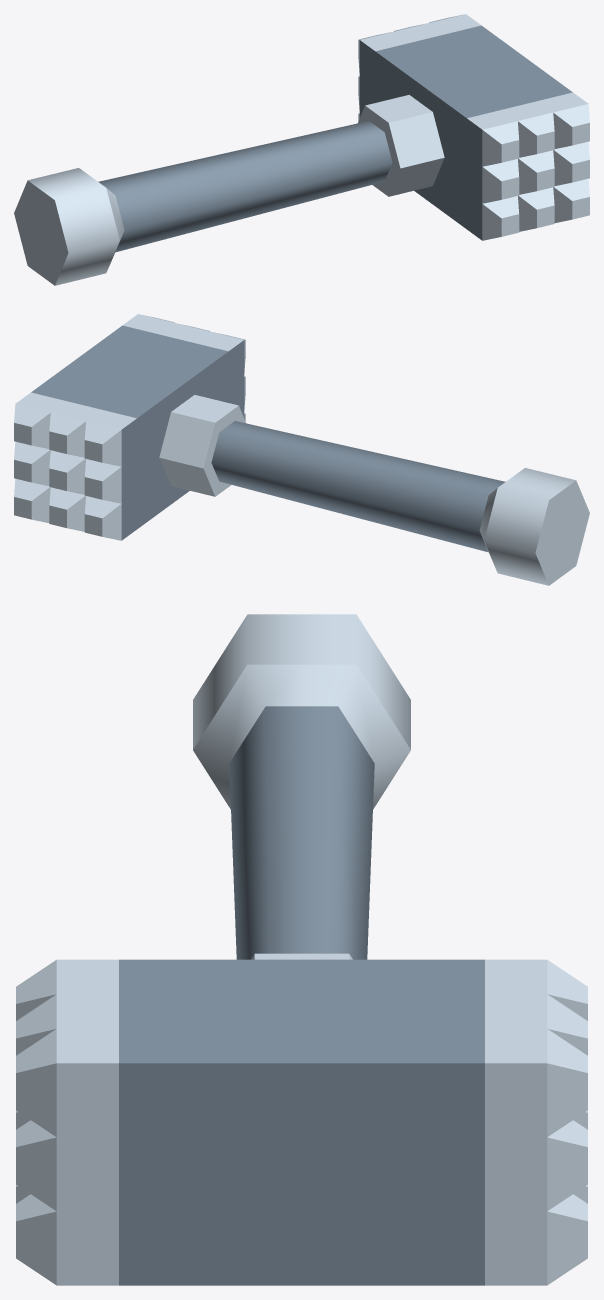
File: meatTenderizer.obj
The picture shows the model from 3 angles, top to bottom: view 1: azimuth 30°, elevation 25°; view 2: azimuth 150°, elevation 25°; view 3: azimuth 270°, elevation 25°; orthographic projection. The views are drawn at different scales.
Parts seen in each view (by area): view 1: meatTenderizer; view 2: meatTenderizer; view 3: meatTenderizer.
Boxes of the visible parts, box(x1,y1,x2,y2) form: meatTenderizer: box(14, 14, 589, 285); meatTenderizer: box(14, 314, 589, 585); meatTenderizer: box(16, 614, 587, 1285).
Bounding box in the file's own units: 0.5408 × 0.1182 × 0.2757.
